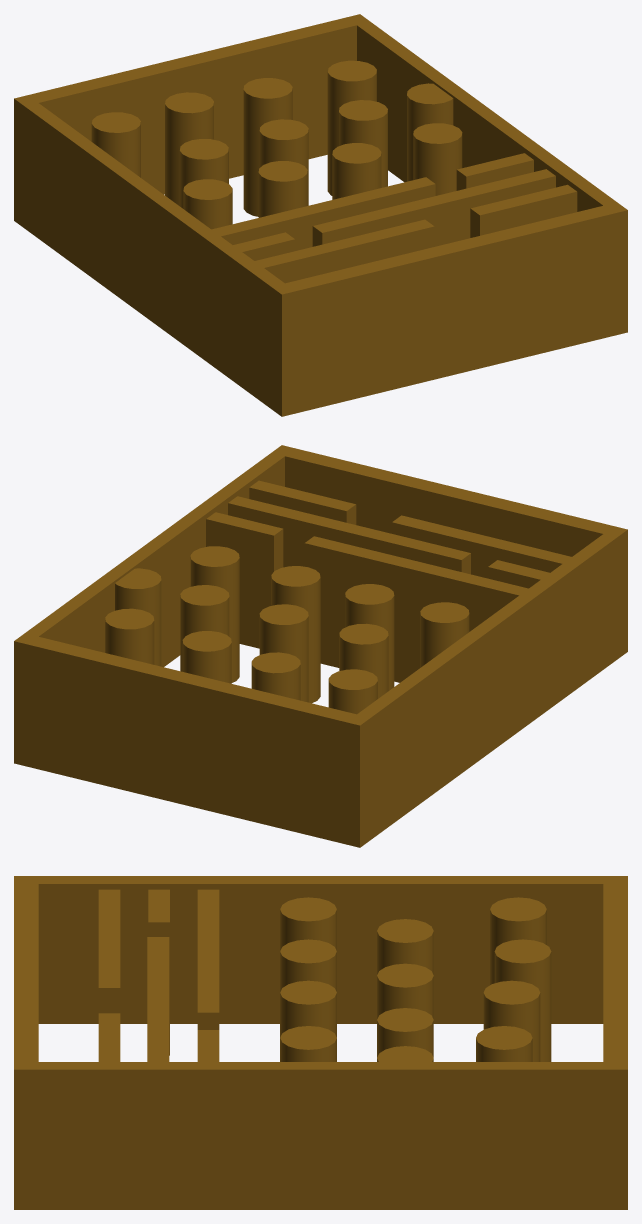
Rendered from Map4.obj.
3 views of the same model, one above another, from view 1: azimuth 30°, elevation 25°; view 2: azimuth 150°, elevation 25°; view 3: azimuth 270°, elevation 25° (orthographic). The views are drawn at different scales.
Visible parts, largest first — view 1: MAP.EDGE, OBSTACLE; view 2: MAP.EDGE, OBSTACLE; view 3: MAP.EDGE, OBSTACLE.
Boxes of the visible parts, x1,y1,x2,y2 form: MAP.EDGE: [14, 14, 627, 416]; OBSTACLE: [91, 60, 577, 283]; MAP.EDGE: [14, 445, 627, 847]; OBSTACLE: [105, 480, 571, 714]; MAP.EDGE: [14, 876, 627, 1209]; OBSTACLE: [98, 889, 551, 1209].
Size of the model in its own units: 5996 by 2022 by 8030.
